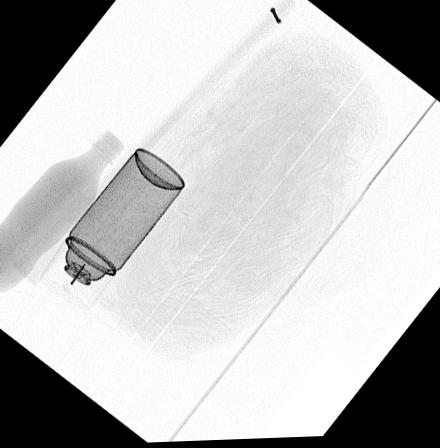Sprayer: (39, 147, 184, 314)
